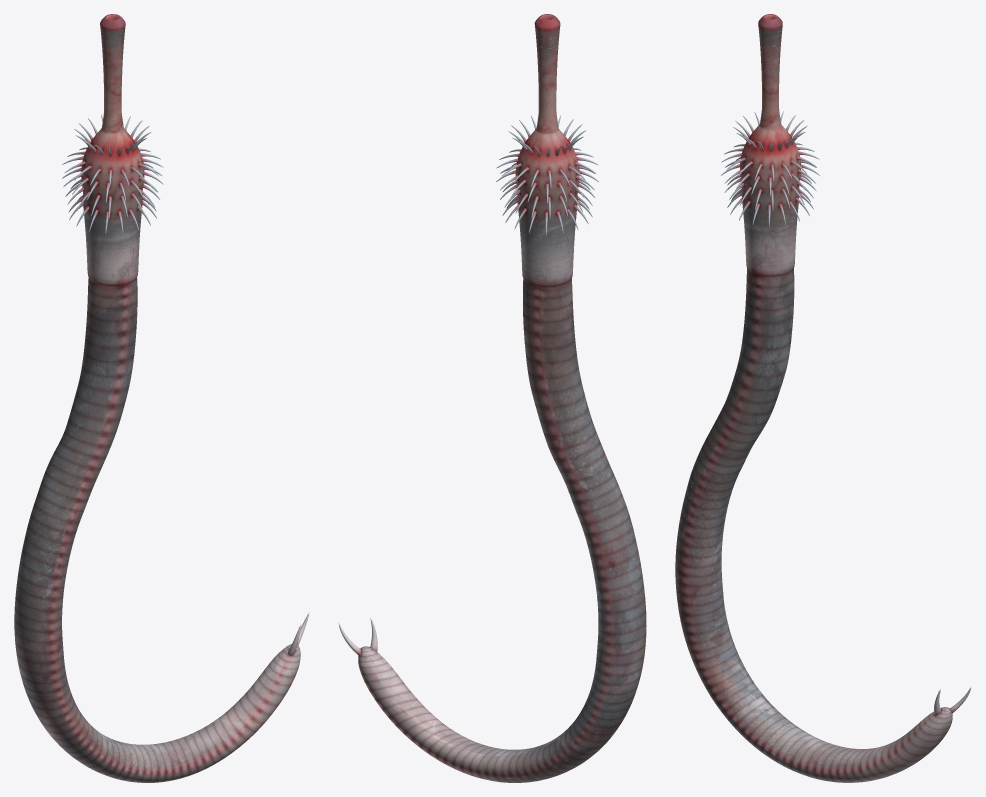
The model's file is cricocosmia.obj.
3 renders of one model, left to right at view 1: azimuth 30°, elevation 25°; view 2: azimuth 150°, elevation 25°; view 3: azimuth 330°, elevation 25°, orthographic. The views are drawn at different scales.
Parts seen in each view (by area): view 1: cricocosmia1; view 2: cricocosmia1; view 3: cricocosmia1.
Part boxes in pixels (x1,y1,x2,y2): cricocosmia1: [14, 14, 309, 782]; cricocosmia1: [338, 14, 646, 782]; cricocosmia1: [675, 14, 971, 782].
Size of the model in its own units: 7.68 by 19.12 by 2.3.
Materials: 1 (1 with a texture image).
